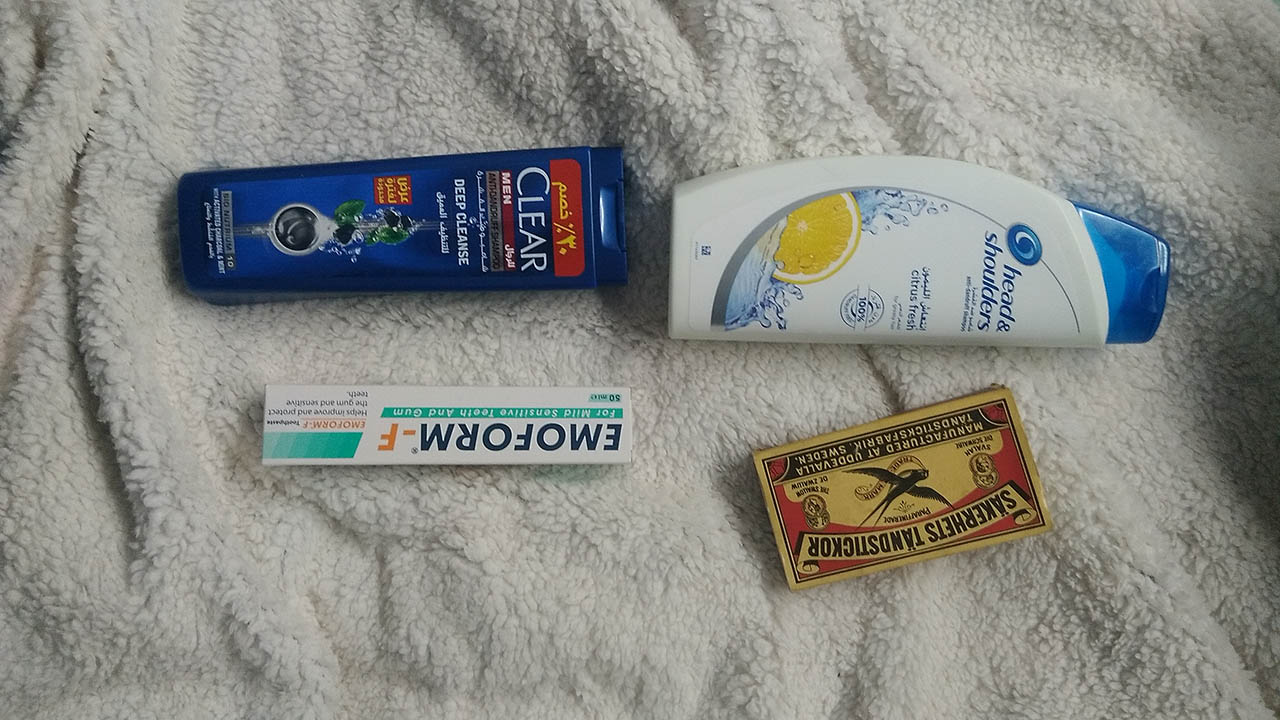Shampoo-Clear 4.7$: (151, 131, 638, 330)
Toothpaste-F 1.5$: (235, 379, 662, 475)
match-sticks .90$: (728, 357, 1103, 604)
shampoo-Lemon 3.5$: (647, 155, 1213, 353)
